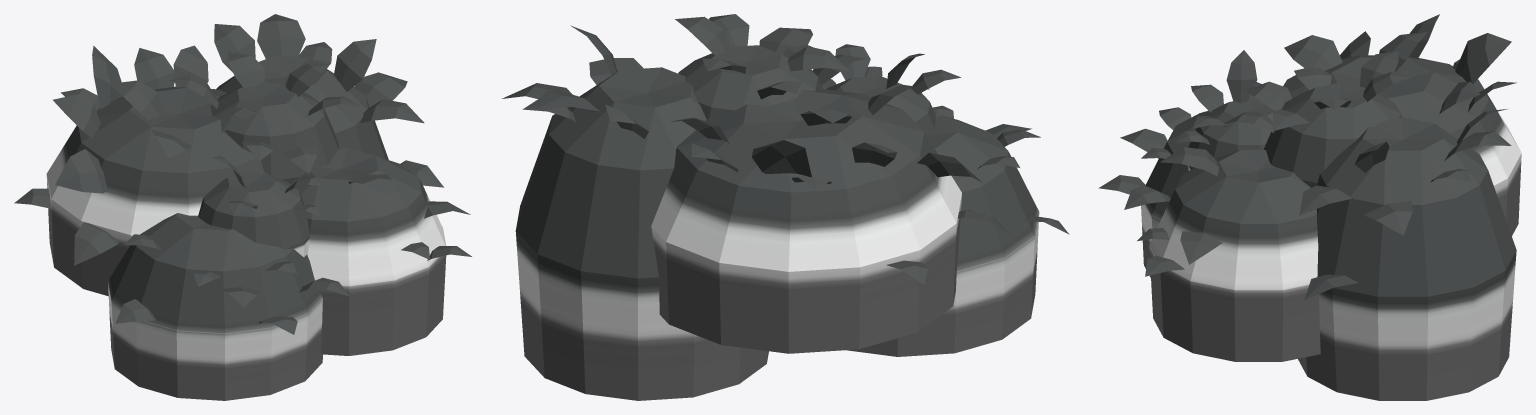
File: Bush_1.fbx
3 views of the same model, side by side, from view 1: azimuth 30°, elevation 25°; view 2: azimuth 150°, elevation 25°; view 3: azimuth 270°, elevation 25° (orthographic). The views are drawn at different scales.
Visible parts, largest first — view 1: Bush_1; view 2: Bush_1; view 3: Bush_1.
Part boxes in pixels (left/top/right/bottom): Bush_1: left=14, top=14, right=471, bottom=400; Bush_1: left=502, top=14, right=1069, bottom=400; Bush_1: left=1098, top=14, right=1521, bottom=400.
Bounding box in the file's own units: 1.12 × 0.6937 × 1.05.
